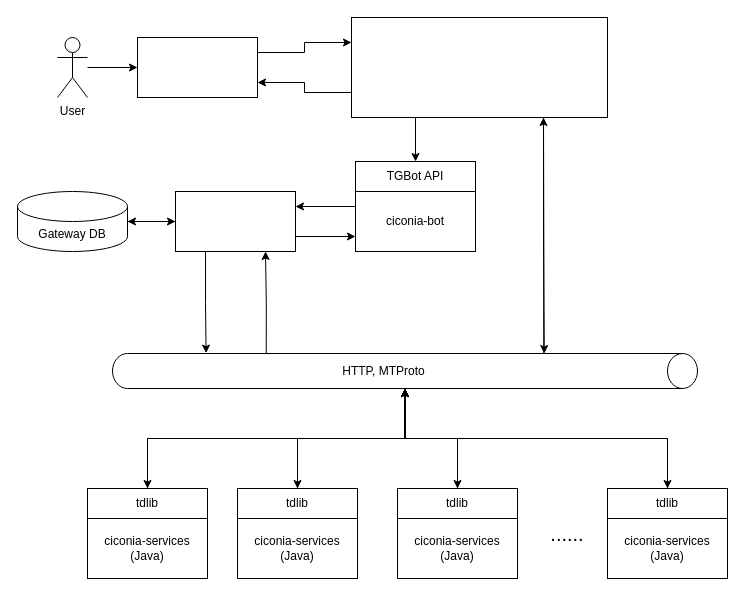
Some shapes in this 745 by 596 pixel diagram are drawn without their labels. Here are the shapes that lost their labels. From the top down, the centre of each, then its label:
(x=197, y=67): Telegram App
(x=479, y=67): Telegram
(x=235, y=221): Gateway service
